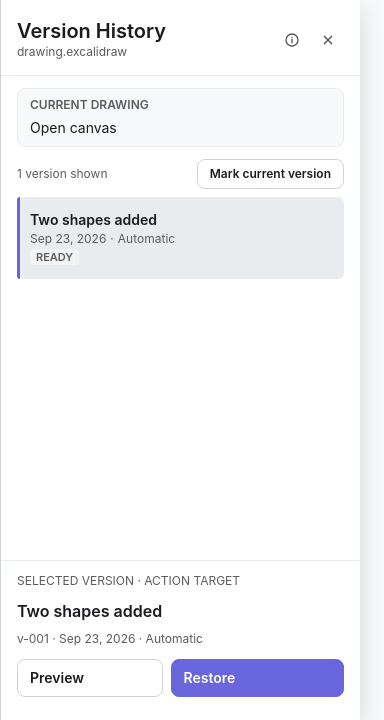
it: HistoryPanel › keeps mark errors persistent beyond the success feedback lifetime
Click the button "Mark current version".
click(270, 174)  # box [197,159,344,189]
Wait 30000 ms
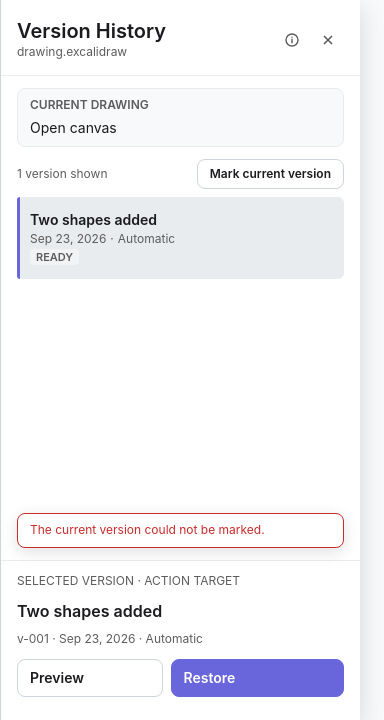
Expected: the message reads "The current version could not be marked.", [30,522,265,537]
